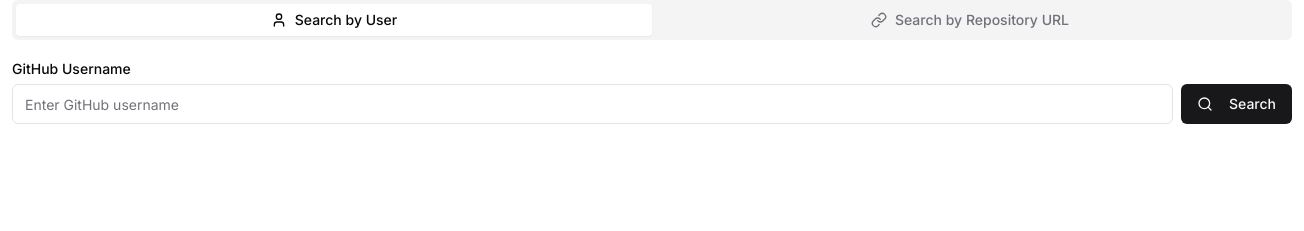
Scenario: RepoSearch › shows an error when submitting an empty username
Click the button "Search" at (1236, 104), box left=1181, top=84, right=1292, bottom=124
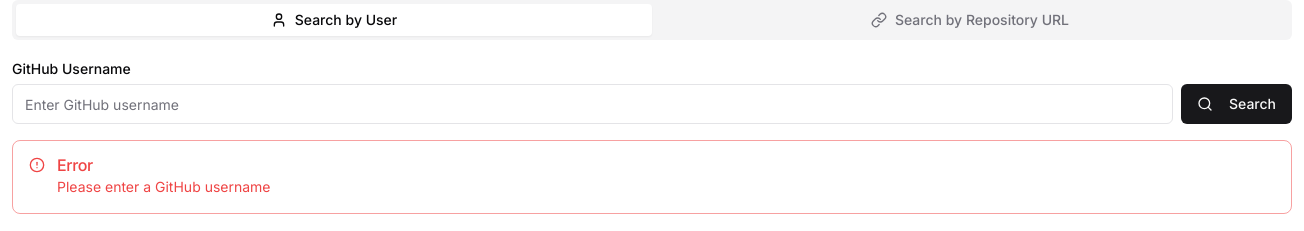
Check: the text "Please enter a GitHub username" is shown, box left=57, top=178, right=270, bottom=195
